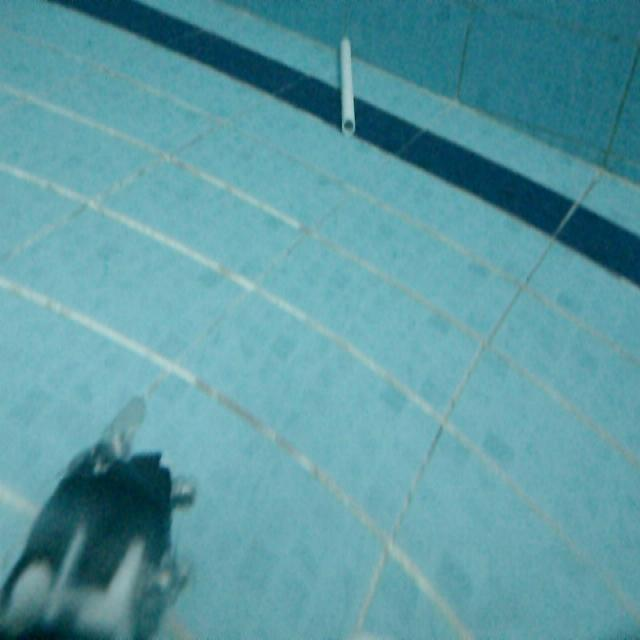Cube: (336, 32, 357, 137)
